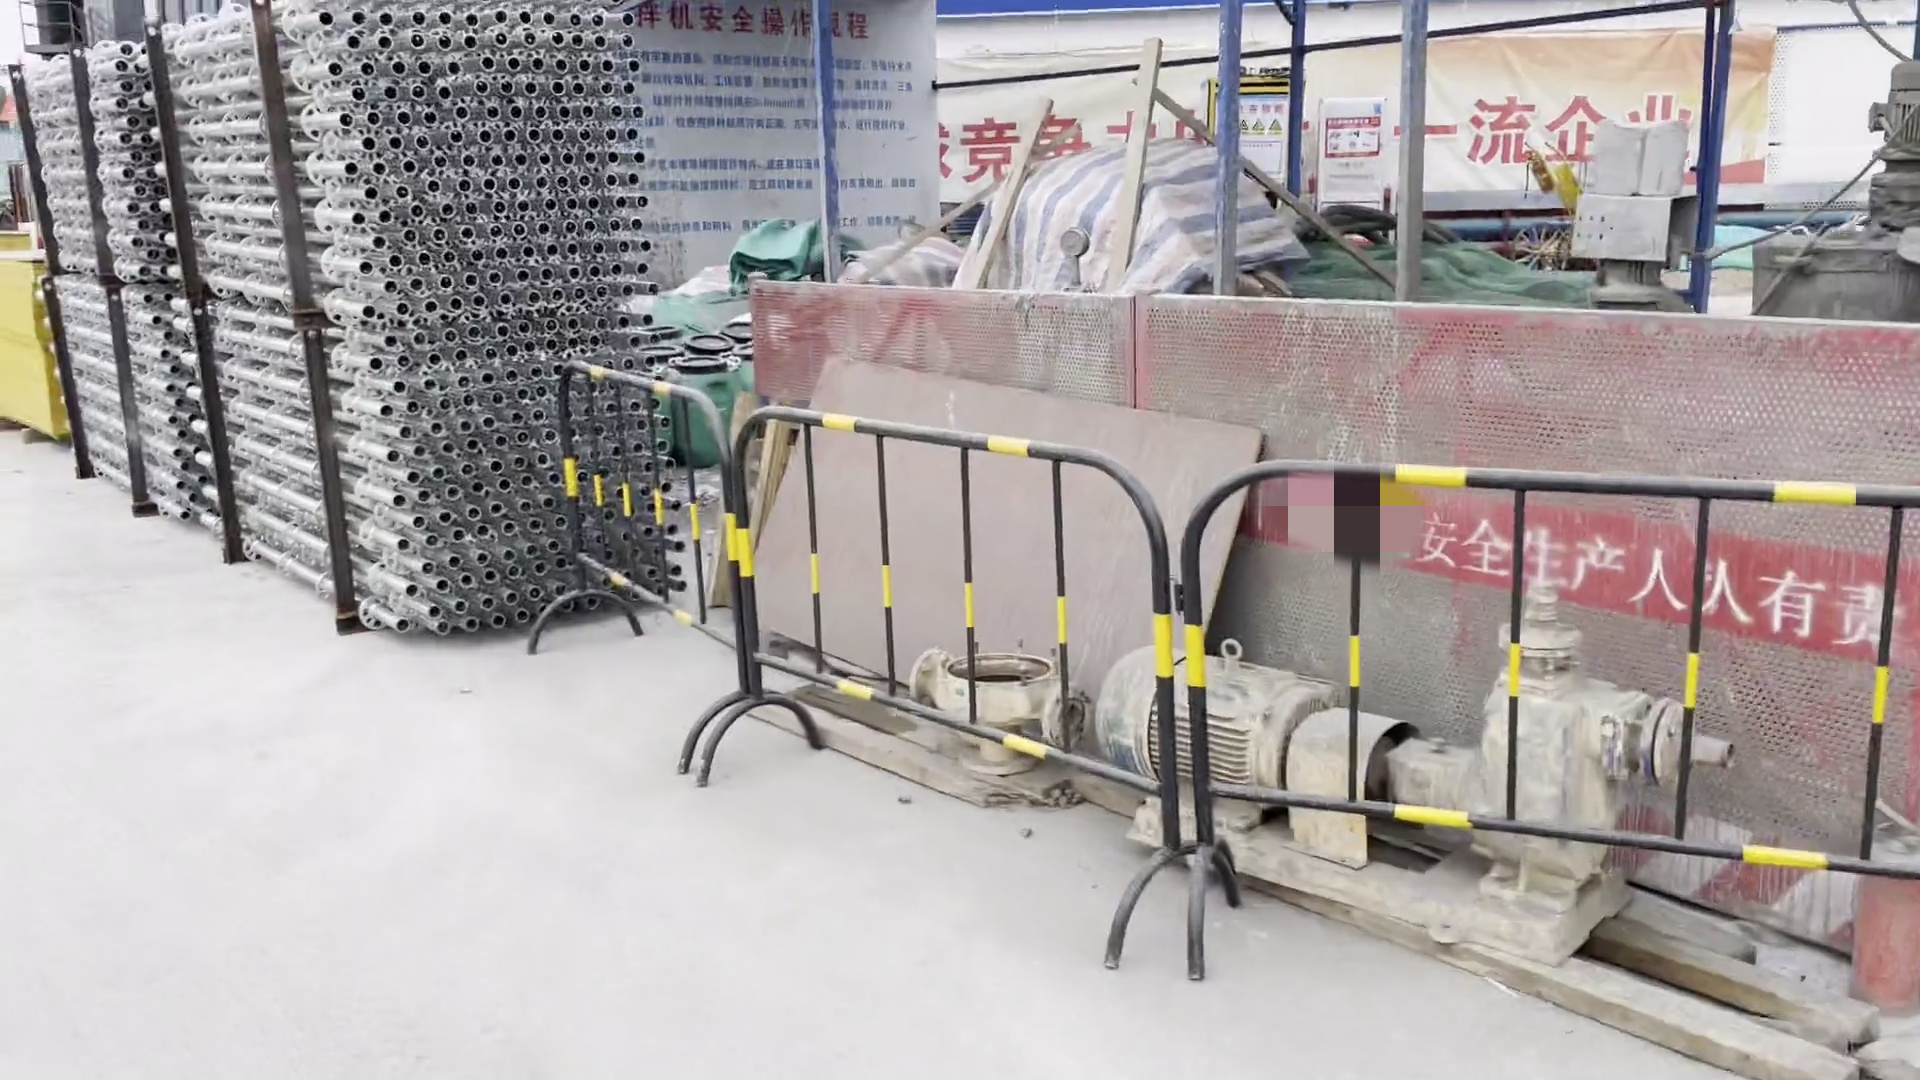scaffold: (191, 1, 684, 632), (21, 1, 178, 505)
slogan: (1425, 495, 1920, 683)
